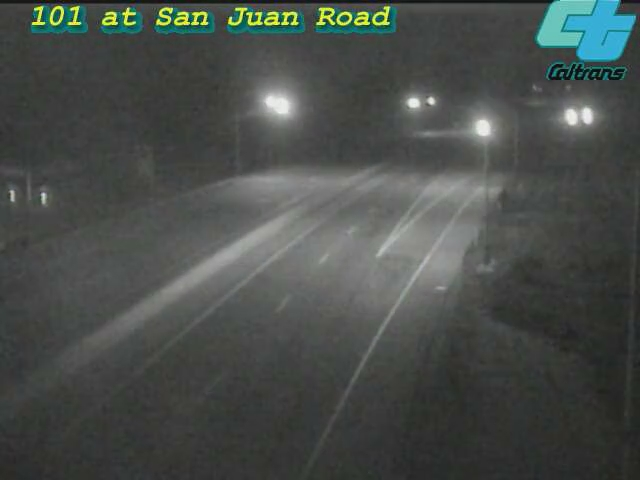vehicle: (462, 104, 512, 154), (546, 92, 596, 142), (561, 92, 611, 142)
